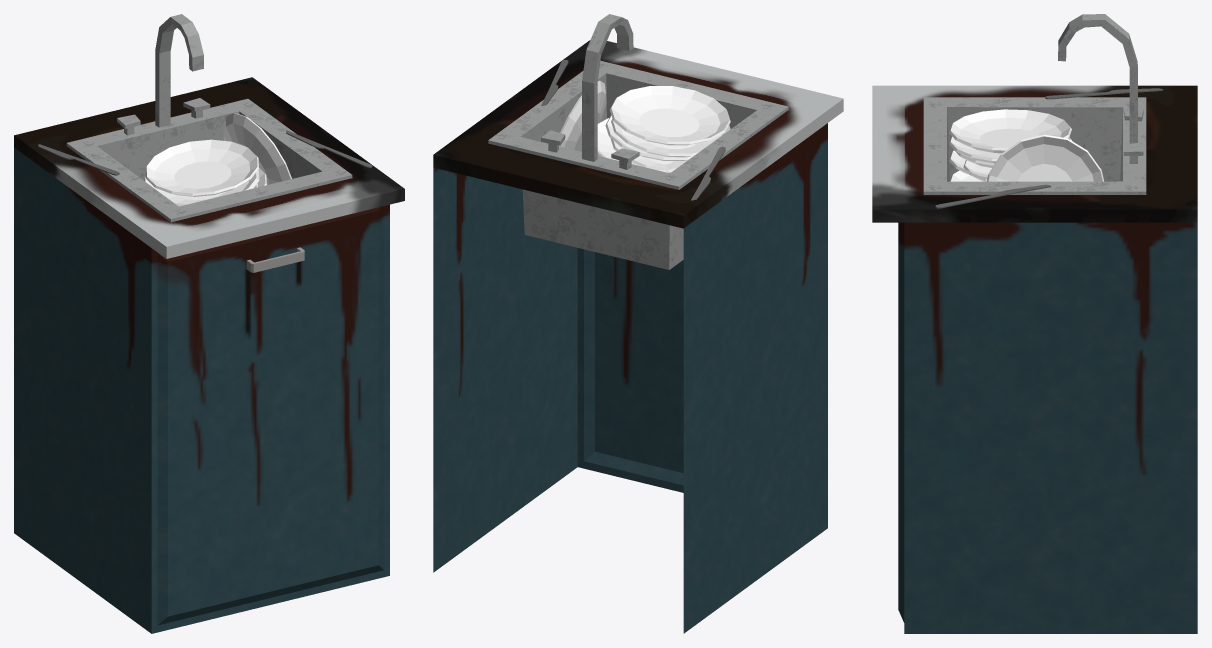
Rendered from LAVABO.glb.
The picture shows the model from 3 angles, left to right: view 1: azimuth 30°, elevation 25°; view 2: azimuth 150°, elevation 25°; view 3: azimuth 270°, elevation 25°; orthographic projection. The views are drawn at different scales.
Visible parts, largest first — view 1: Kitchen_1Drawers_Cube.077, lavabo.001, piatto.005, piatto.008, piatto.004; view 2: Kitchen_1Drawers_Cube.077, lavabo.001, piatto.005, piatto.004, piatto.008, piatto.007, piatto.006; view 3: Kitchen_1Drawers_Cube.077, lavabo.001, piatto.008, piatto.005, piatto.004, Knife_Plane.001.
Boxes of the visible parts, x1,y1,x2,y2 form: Kitchen_1Drawers_Cube.077: (14,77,404,633); lavabo.001: (66,14,352,222); piatto.005: (145,139,258,196); piatto.008: (222,113,291,184); piatto.004: (144,171,257,206); Kitchen_1Drawers_Cube.077: (433,40,843,633); lavabo.001: (488,14,788,269); piatto.005: (609,86,730,145); piatto.004: (611,119,730,157); piatto.008: (559,80,606,151); piatto.007: (597,118,687,172); piatto.006: (605,115,693,160); Kitchen_1Drawers_Cube.077: (872,85,1197,633); lavabo.001: (923,14,1146,194); piatto.008: (987,134,1103,181); piatto.005: (949,109,1071,153); piatto.004: (949,136,1071,163); Knife_Plane.001: (935,184,1050,208).
Bounding box in the file's own units: 1.01 × 2.11 × 1.12.
7 materials, 3 textured.
